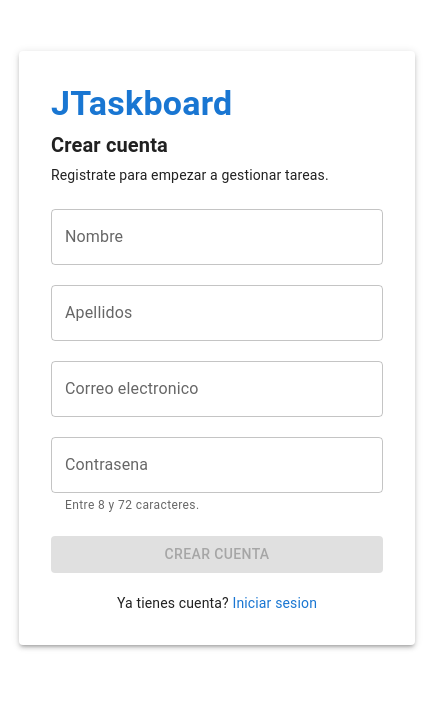
Test: RegisterPage › muestra "ese correo ya esta registrado" ante un 409
Step 1. Type "Ada" into the field labelled "Nombre" → (217, 237), box [51,209,383,265]
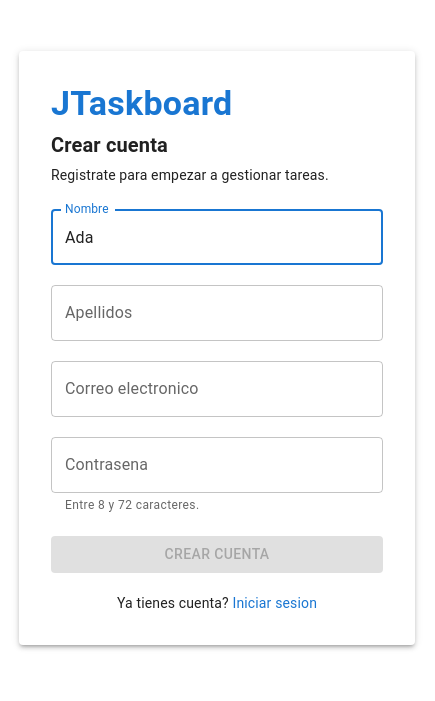
Step 2. Type "Lovelace" into the field labelled "Apellidos" → (217, 313), box [51,285,383,341]
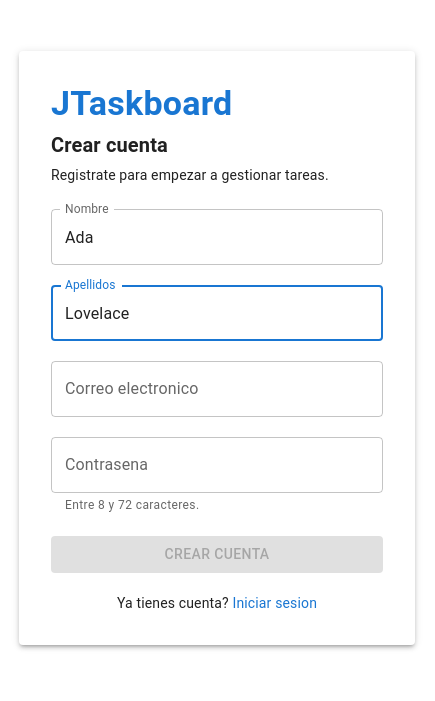
Step 3. Type "ada@example.com" into the field labelled "Correo electronico" → (217, 389), box [51,361,383,417]
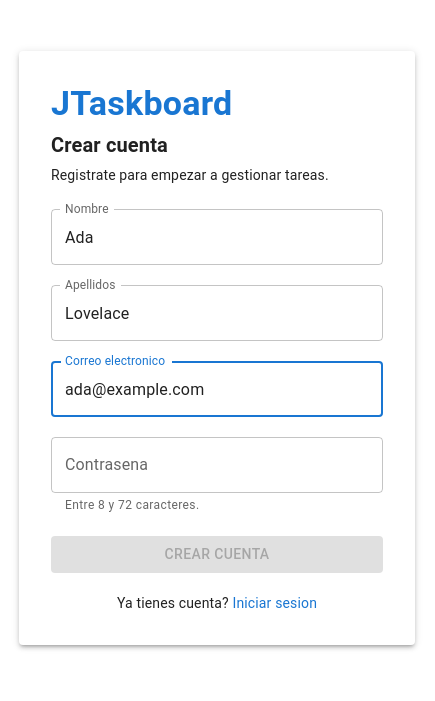
Step 4. Type "secret123" into the password field labelled "Contrasena" → (217, 465), box [51,437,383,493]
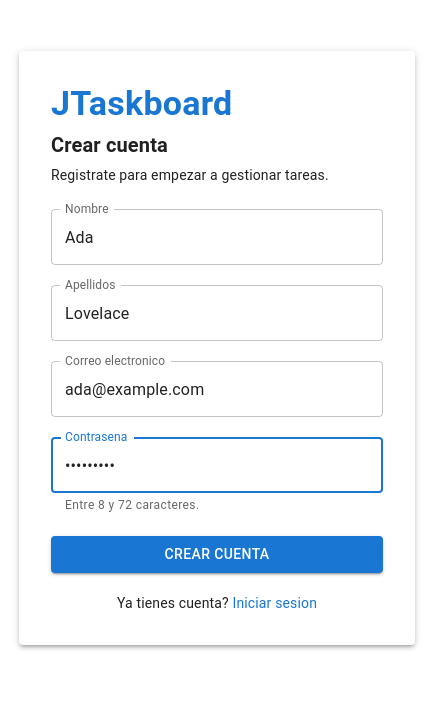
Step 5. Click the button "Crear cuenta" → (217, 554), box [51,536,383,573]
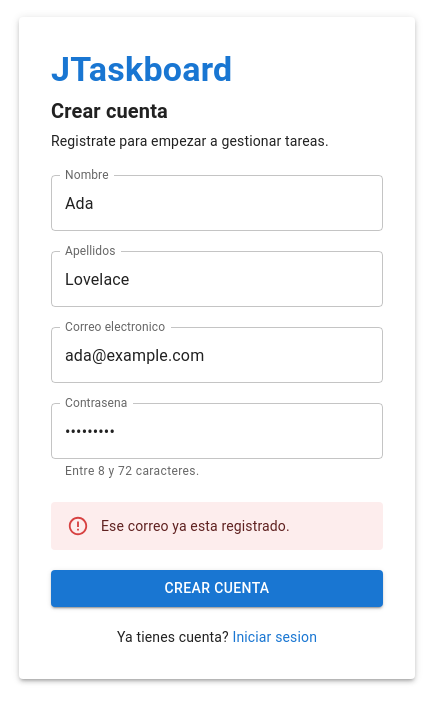
Now the message shows "ya esta registrado", box [101,518,290,534]
